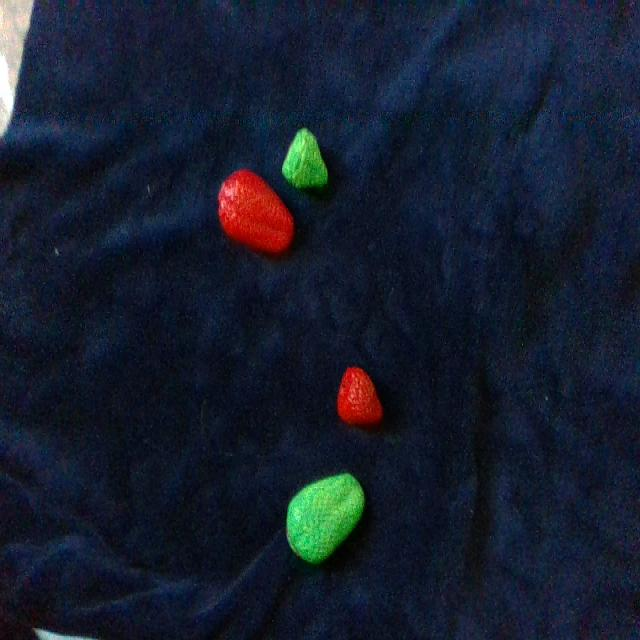chica_roja: (337, 369, 382, 427)
grande_roja: (218, 169, 291, 253)
verde: (286, 473, 364, 563), (282, 129, 327, 188)
